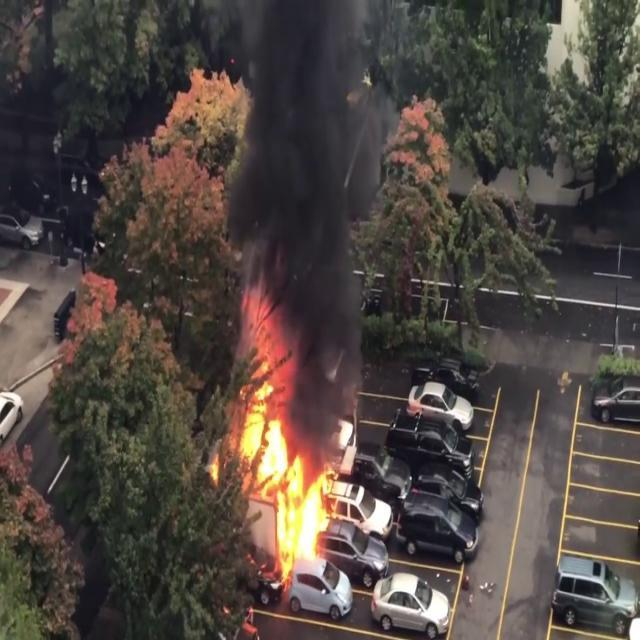Fire: (223, 286, 356, 578)
Smoke: (216, 0, 390, 392)
